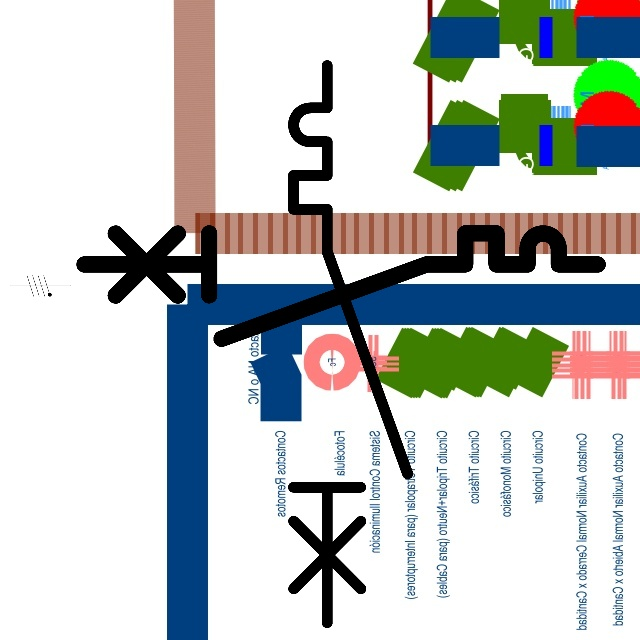interruptor_termomagnetico: (279, 51, 422, 637), (71, 220, 611, 352)
